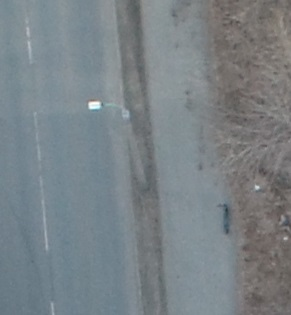opora: (86, 98, 150, 190)
